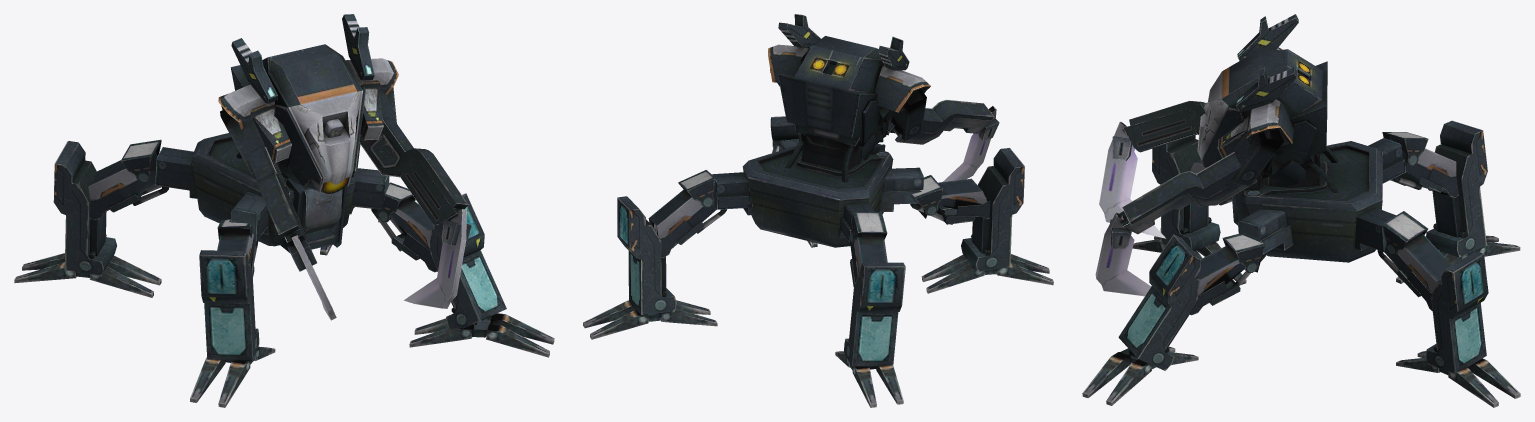
The picture shows the model from 3 angles, left to right: view 1: azimuth 30°, elevation 25°; view 2: azimuth 150°, elevation 25°; view 3: azimuth 270°, elevation 25°; orthographic projection. The views are drawn at different scales.
Visible parts, largest first — view 1: 20_10; view 2: 20_10; view 3: 20_10.
Part boxes in pixels (bbox=[...]): 20_10: bbox=[14, 14, 554, 407]; 20_10: bbox=[583, 14, 1053, 407]; 20_10: bbox=[1082, 14, 1520, 407].
Bounding box in the file's own units: 301 × 237 × 331.
